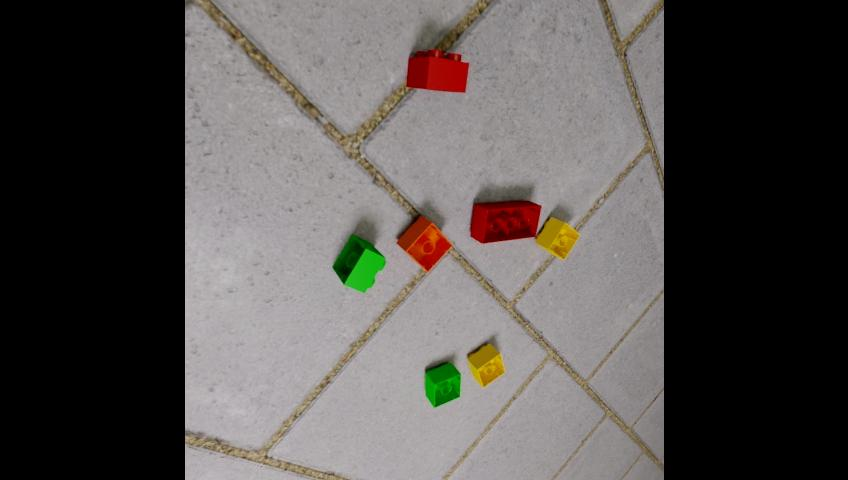2x2_green: (332, 234, 386, 292), (425, 362, 461, 407)
2x2_orange: (396, 215, 452, 271)
2x2_red: (406, 49, 469, 91)
2x2_yellow: (535, 217, 580, 259), (467, 343, 505, 387)
4x2_red: (470, 200, 542, 243)
